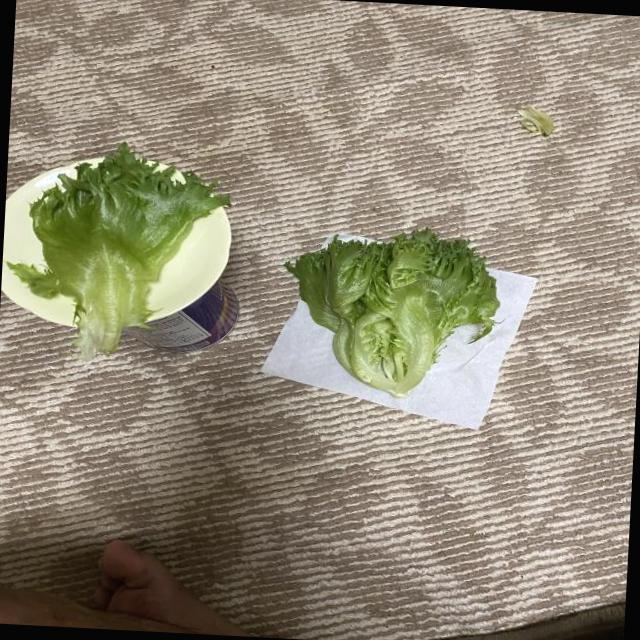Lettuce-Ready-to-Harvest: (6, 145, 229, 357), (287, 229, 499, 395)
